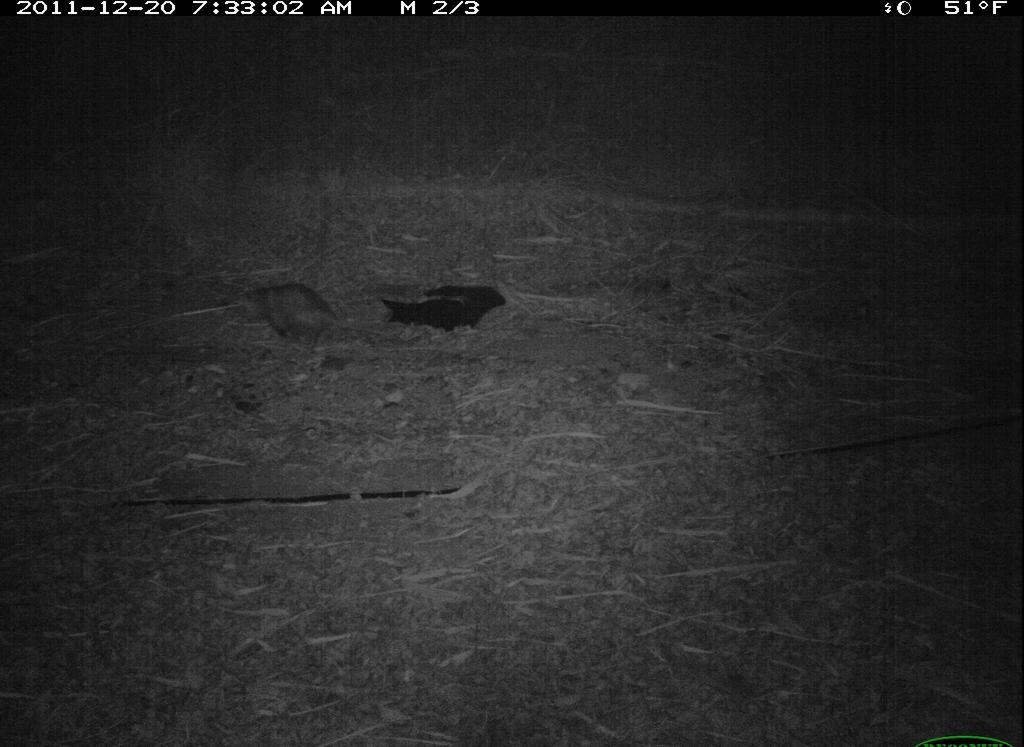opossum: (232, 262, 393, 354)
